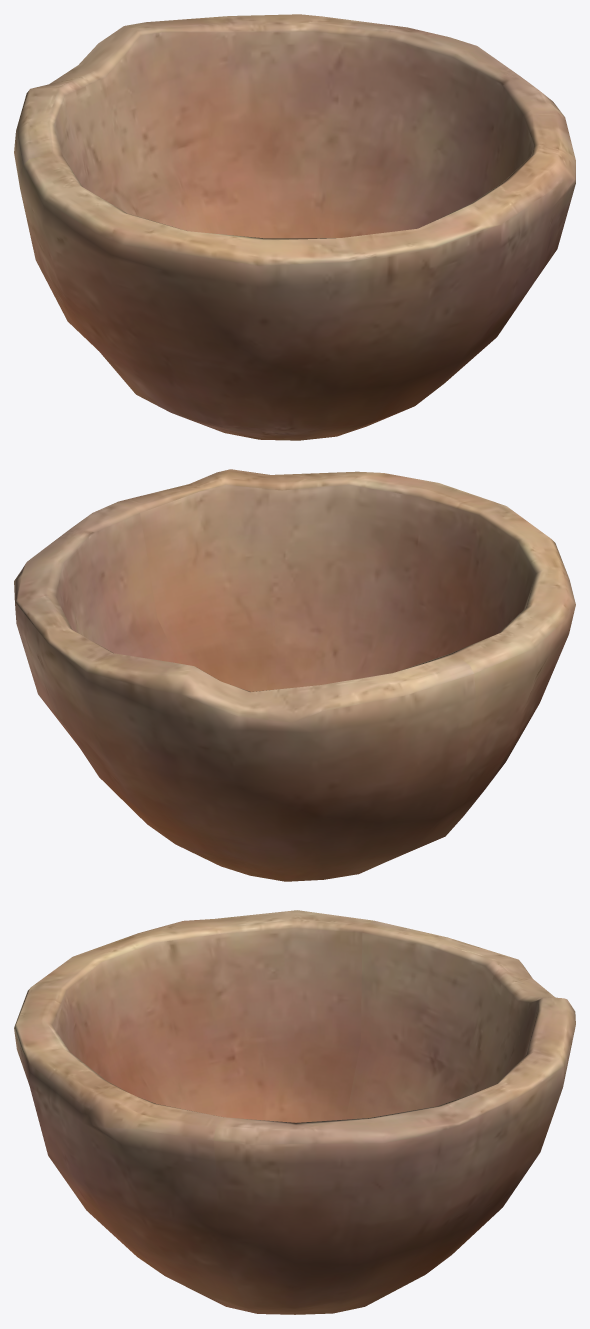
3 renders of one model, top to bottom at view 1: azimuth 30°, elevation 25°; view 2: azimuth 150°, elevation 25°; view 3: azimuth 270°, elevation 25°, orthographic. The views are drawn at different scales.
Visible parts, largest first — view 1: SM_Clay_Bowl_Unfired_01_LOD0; view 2: SM_Clay_Bowl_Unfired_01_LOD0; view 3: SM_Clay_Bowl_Unfired_01_LOD0.
Boxes of the visible parts, left/top/right/bottom form: SM_Clay_Bowl_Unfired_01_LOD0: left=14, top=14, right=575, bottom=440; SM_Clay_Bowl_Unfired_01_LOD0: left=14, top=469, right=575, bottom=881; SM_Clay_Bowl_Unfired_01_LOD0: left=14, top=910, right=575, bottom=1314.
Bounding box in the file's own units: 0.34 × 0.1968 × 0.353.
1 material, 1 textured.
